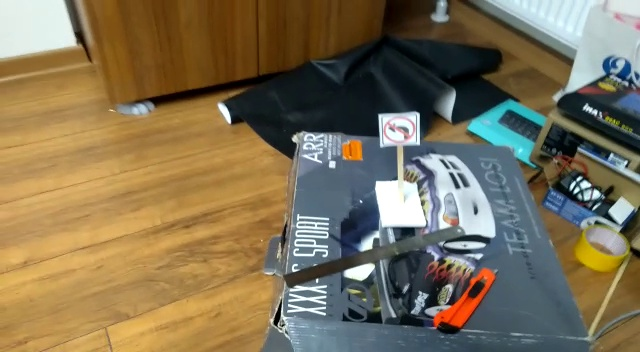sola_donulmez: (381, 113, 419, 146)
